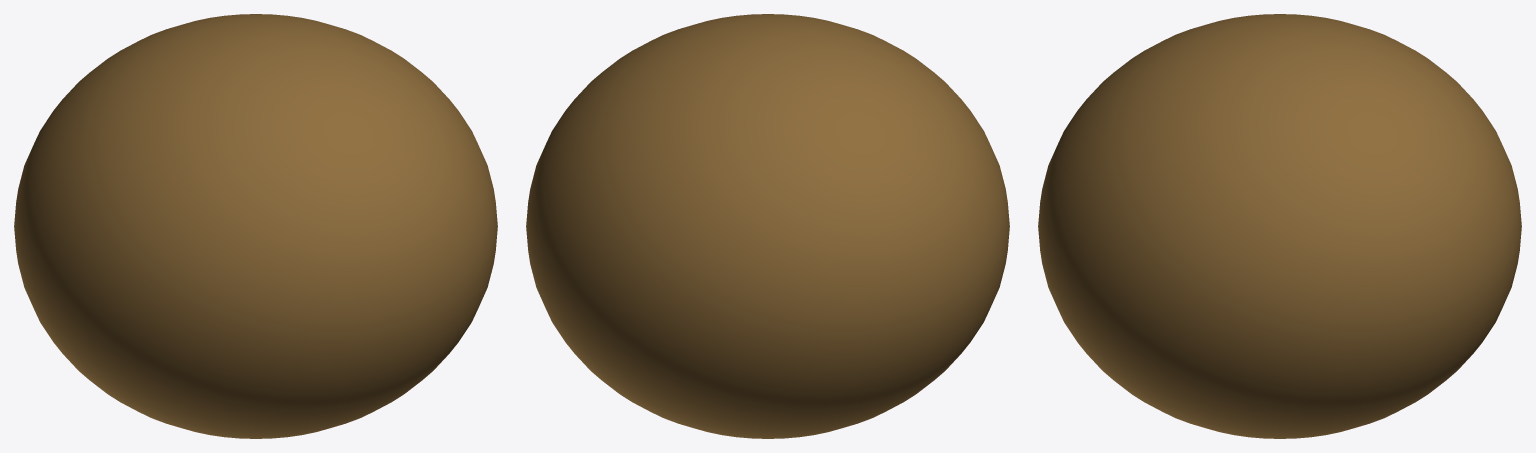
File: kiwi.glb
The picture shows the model from 3 angles, left to right: view 1: azimuth 30°, elevation 25°; view 2: azimuth 150°, elevation 25°; view 3: azimuth 270°, elevation 25°; orthographic projection.
Visible parts, largest first — view 1: kiwi_slupka; view 2: kiwi_slupka; view 3: kiwi_slupka.
Part boxes in pixels (x1,y1,x2,y2): kiwi_slupka: (14,14,497,438); kiwi_slupka: (526,14,1009,438); kiwi_slupka: (1038,14,1521,438).
Bounding box in the file's own units: 0.6 × 0.51 × 0.6.
